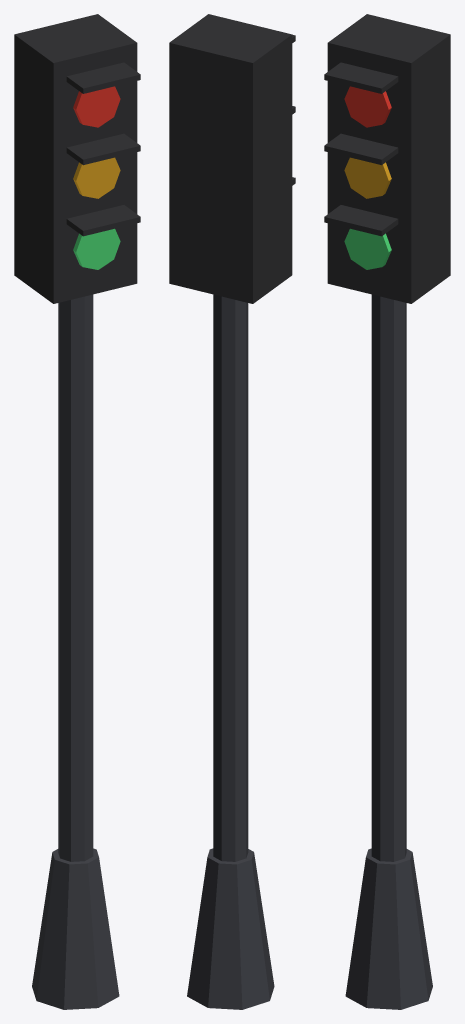
File: objet_feu_tricolore.glb
The picture shows the model from 3 angles, left to right: view 1: azimuth 30°, elevation 25°; view 2: azimuth 150°, elevation 25°; view 3: azimuth 330°, elevation 25°; orthographic projection.
Visible parts, largest first — view 1: objet_feu_tricolore; view 2: objet_feu_tricolore; view 3: objet_feu_tricolore.
Boxes of the visible parts, <box> form: objet_feu_tricolore: <box>14,14,140,1009</box>; objet_feu_tricolore: <box>169,14,295,1009</box>; objet_feu_tricolore: <box>324,14,450,1009</box>.
Size of the model in its own units: 0.32 by 3.48 by 0.39.
